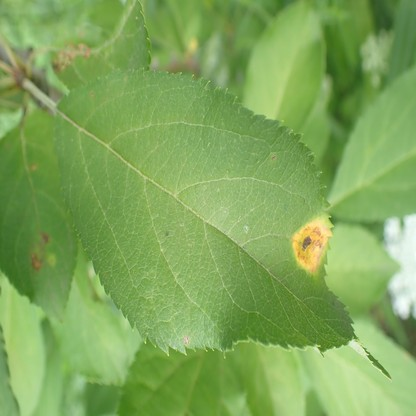rust: (292, 220, 330, 271), (31, 253, 42, 271), (41, 232, 51, 243)
